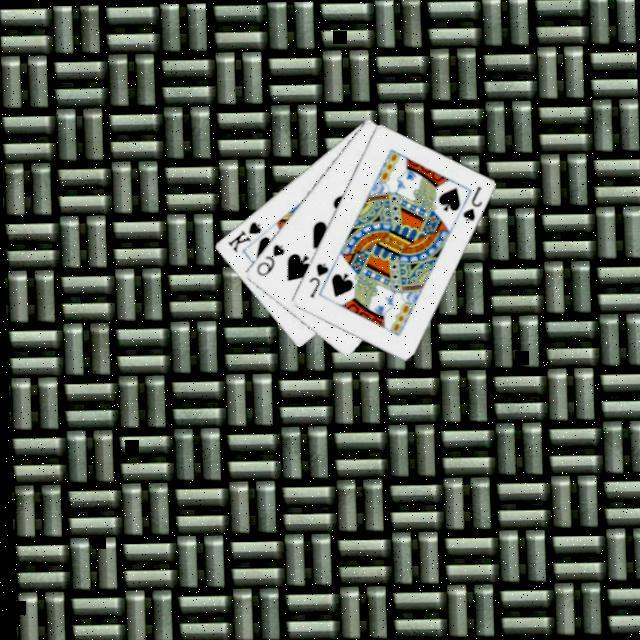9S: (252, 238, 288, 277)
JS: (304, 258, 331, 298), (458, 181, 484, 222)
KS: (223, 216, 264, 253)
